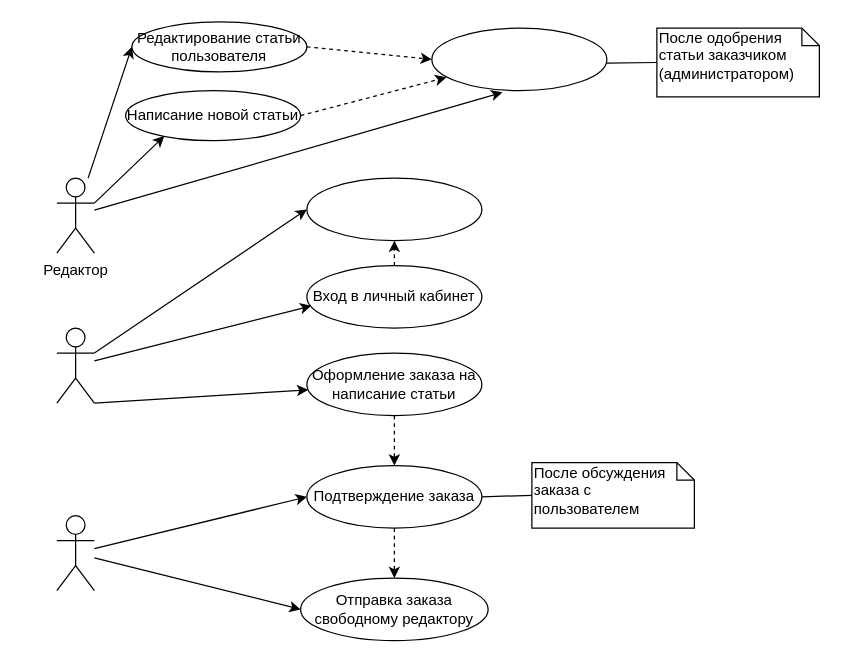
Image size: 841x663. Some labels were removed from this diagram. The centre of each missing label's shape, as x and y in pixels:
"Администратор" goes at [75,552].
"Отправка своей статьи редактору" goes at [394,209].
"Пользователь" goes at [75,365].
"Публикация статьи на сайте" goes at [519,59].
